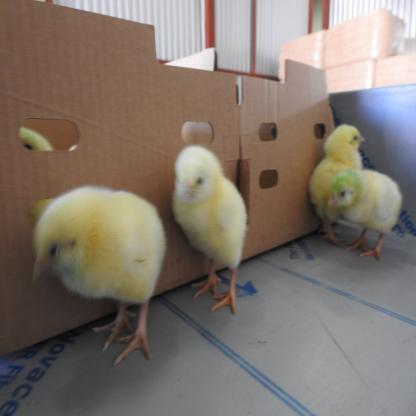Chicken: (34, 180, 168, 361), (170, 122, 247, 313), (307, 112, 360, 247), (330, 165, 403, 257)
